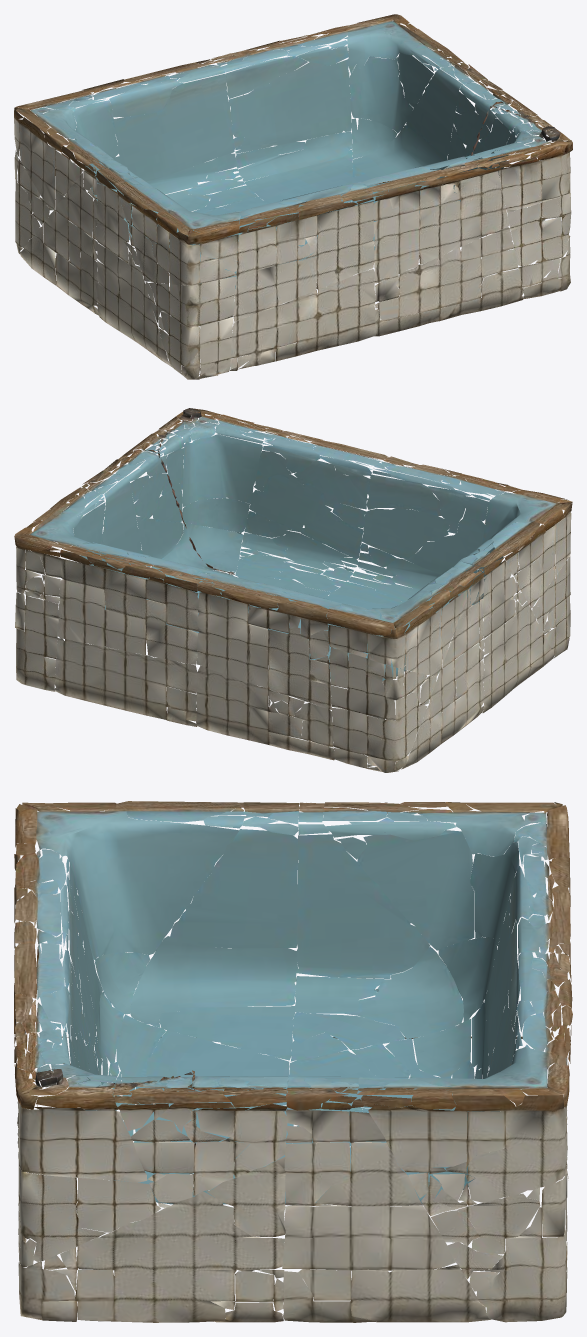
Rendered from bathtub_prop.glb.
3 renders of one model, top to bottom at view 1: azimuth 30°, elevation 25°; view 2: azimuth 150°, elevation 25°; view 3: azimuth 270°, elevation 25°, orthographic. The views are drawn at different scales.
Visible parts, largest first — view 1: prop_bathtub; view 2: prop_bathtub; view 3: prop_bathtub.
Boxes of the visible parts, bbox=[...] form: prop_bathtub: bbox=[14, 14, 572, 379]; prop_bathtub: bbox=[14, 408, 572, 772]; prop_bathtub: bbox=[14, 801, 572, 1322].
Bounding box in the file's own units: 0.9811 × 0.3855 × 0.7859.
1 material, 1 textured.
